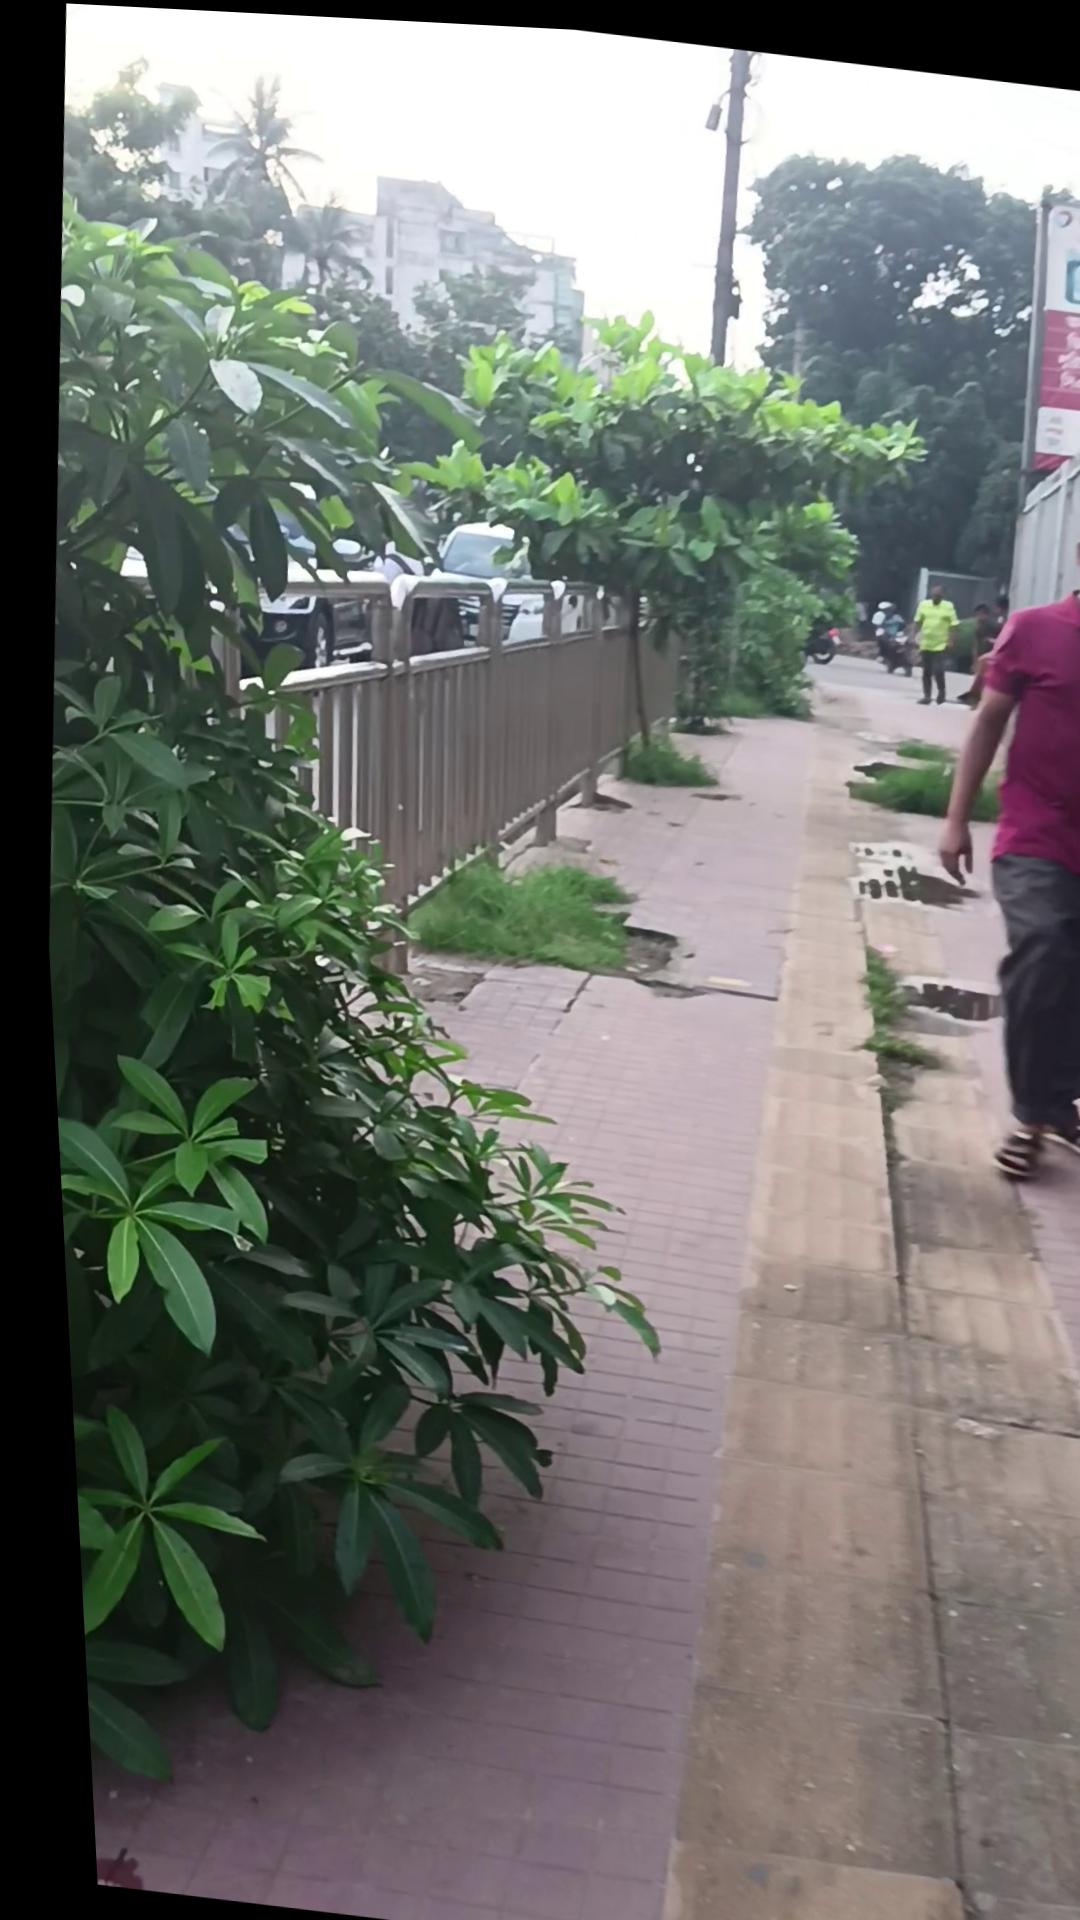Light-pole: (861, 604, 911, 667), (790, 608, 836, 658)
Muddy road: (889, 462, 1080, 1179), (897, 570, 956, 698)
Potted-plant: (22, 547, 1080, 1920)
Railroad-crossing: (881, 939, 1019, 1034), (832, 823, 972, 910)
